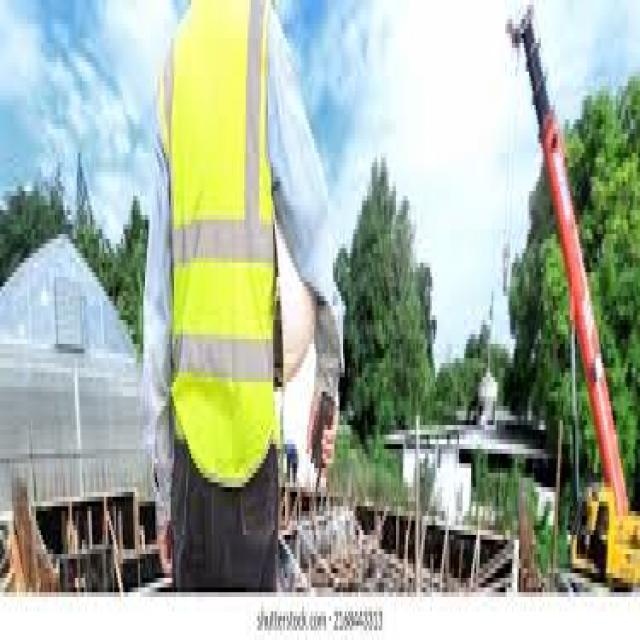Reflective-Jacket: (154, 10, 292, 511)
